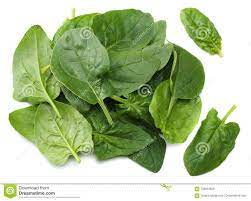spinach: (46, 28, 196, 154)
